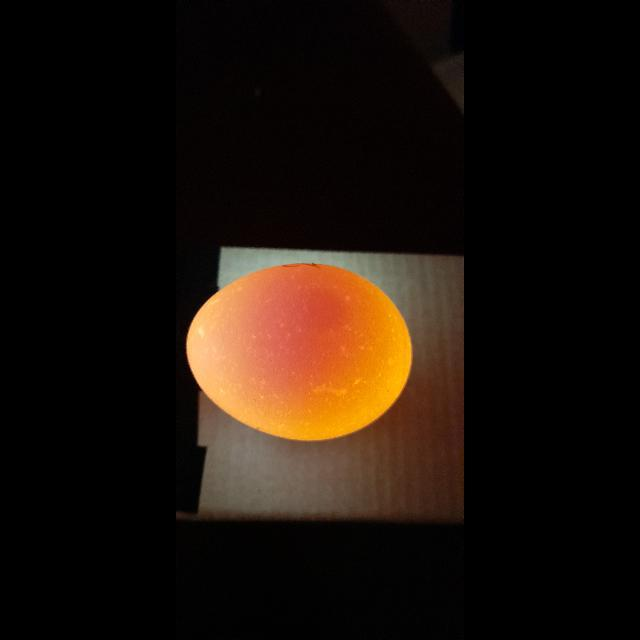Fertile: (188, 263, 412, 443)
